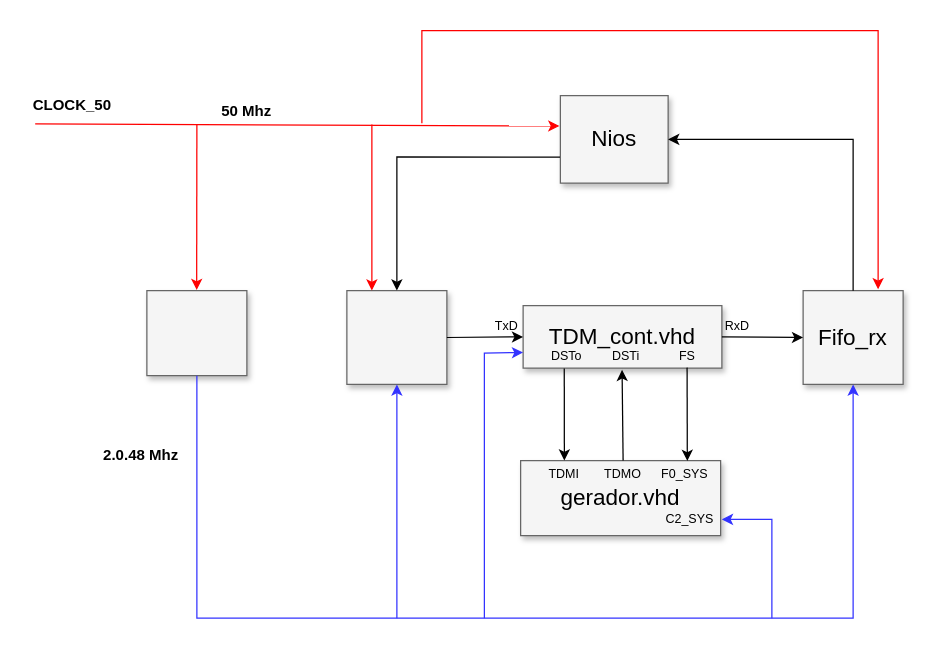
Some shapes in this 933 by 650 pixel diagram are drawn without their labels. The centre of each missing label's shape, as x and y in pixels:
"Fifo_tx" goes at point 397,338.
"PLL" goes at point 197,334.
